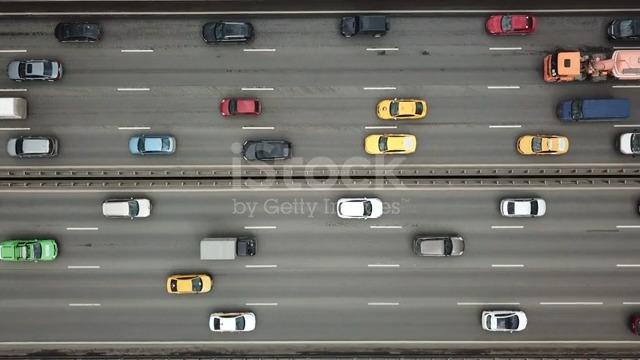Cars: (557, 98, 631, 123), (7, 58, 64, 83), (1, 238, 59, 262), (202, 21, 255, 45), (376, 98, 428, 121), (516, 134, 570, 156), (55, 19, 104, 43), (364, 133, 417, 155), (242, 140, 292, 163), (485, 14, 537, 36), (341, 15, 390, 38), (129, 134, 177, 156), (167, 273, 214, 295), (209, 312, 256, 333), (607, 18, 640, 43), (221, 97, 262, 117), (615, 130, 640, 156)
